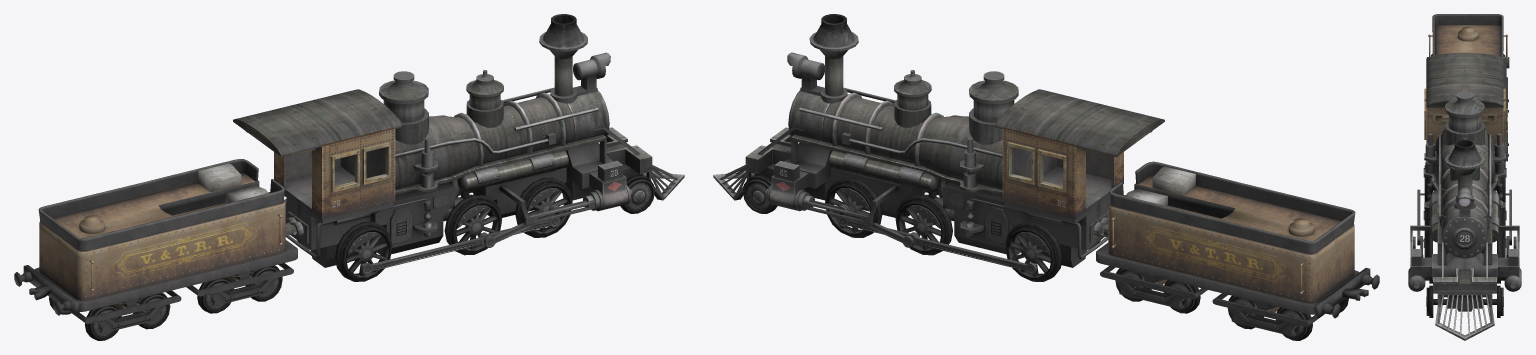
The model's file is locomotive.glb.
3 renders of one model, left to right at view 1: azimuth 30°, elevation 25°; view 2: azimuth 150°, elevation 25°; view 3: azimuth 270°, elevation 25°, orthographic. The views are drawn at different scales.
Parts seen in each view (by area): view 1: Cube.001, Cylinder, Cube.014, Cube.005, Cube.015, Cube.002, Cube.006, Cube.010, Cube.009, Cube.000; view 2: Cube.001, Cylinder, Cube.018, Cube.019, Cube.017, Cube.021, Cube.016, Cube.022, Cube.012, Cube.007; view 3: Cube.001, Cylinder, Cube.002, Cube.017, Cube.015, Cube.006, Cube.021, Cube.016, Cube.005, Cube.019, Cube.014, Cube.018.
Boxes of the visible parts, box(x1,y1,x2,y2) form: Cube.001: box(233, 14, 684, 267); Cylinder: box(14, 159, 297, 333); Cube.014: box(335, 221, 392, 281); Cube.005: box(444, 195, 501, 255); Cube.015: box(515, 177, 572, 237); Cube.002: box(361, 217, 560, 274); Cube.006: box(620, 175, 654, 213); Cube.010: box(197, 277, 233, 313); Cube.009: box(85, 304, 121, 340); Cube.000: box(484, 205, 561, 247); Cube.001: box(713, 14, 1164, 267); Cylinder: box(1096, 161, 1379, 336); Cube.018: box(1005, 222, 1062, 281); Cube.019: box(895, 195, 952, 255); Cube.017: box(825, 178, 882, 237); Cube.021: box(837, 217, 1036, 274); Cube.016: box(742, 175, 777, 213); Cube.022: box(836, 205, 913, 247); Cube.012: box(1163, 280, 1200, 313); Cube.007: box(1276, 307, 1312, 340); Cube.001: box(1408, 52, 1521, 340); Cylinder: box(1427, 14, 1509, 165); Cube.002: box(1417, 189, 1424, 254); Cube.017: box(1497, 232, 1506, 283); Cube.015: box(1423, 232, 1432, 283); Cube.006: box(1426, 285, 1433, 317); Cube.021: box(1505, 189, 1511, 254); Cube.016: box(1497, 285, 1503, 317); Cube.005: box(1423, 205, 1430, 235); Cube.019: box(1499, 205, 1506, 235); Cube.014: box(1423, 165, 1432, 202); Cube.018: box(1497, 165, 1506, 202).
Size of the model in its own units: 14.63 by 4.12 by 2.76.
2 materials, 2 textured.
